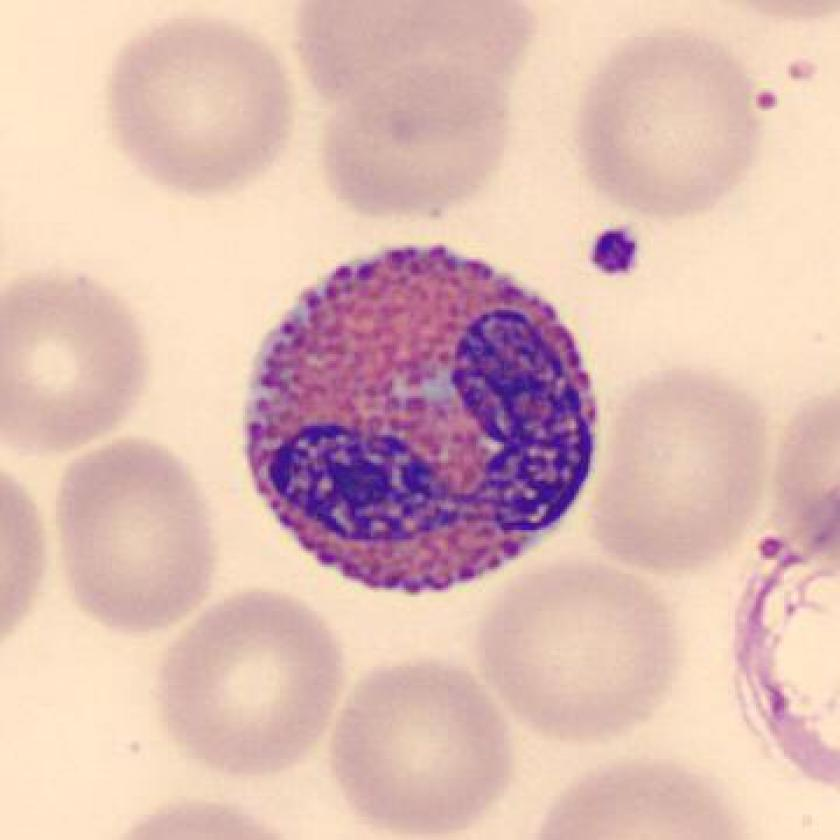eosinophil: (225, 230, 610, 612)
